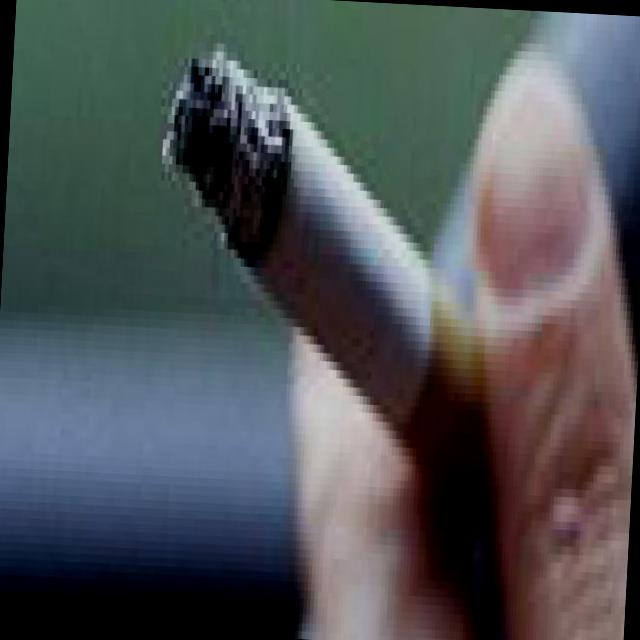smoke: (136, 24, 498, 410)
